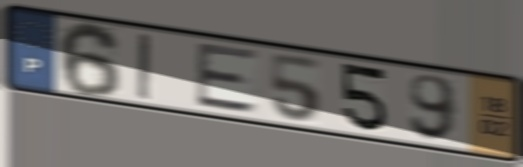5: (267, 50, 324, 125), (338, 60, 390, 133)
6: (55, 19, 124, 99)
9: (406, 73, 460, 143)
E: (192, 41, 263, 117)
I: (134, 31, 156, 104)
